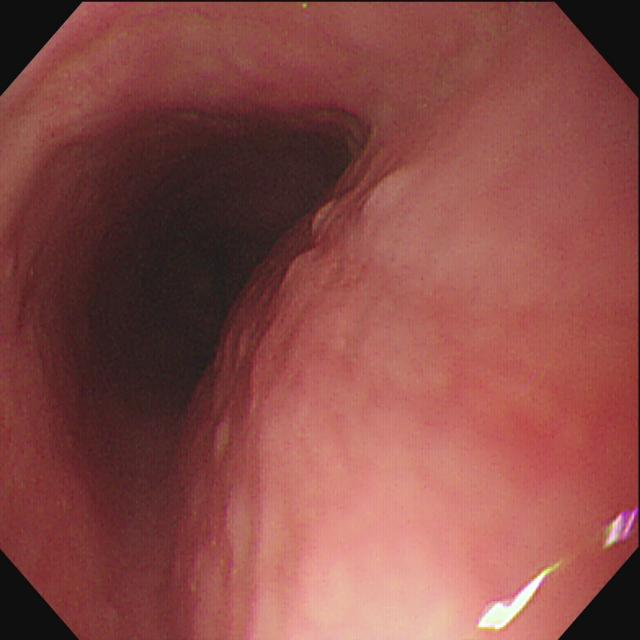E: (97, 216, 206, 391)
U: (477, 562, 562, 632), (605, 509, 636, 549)
